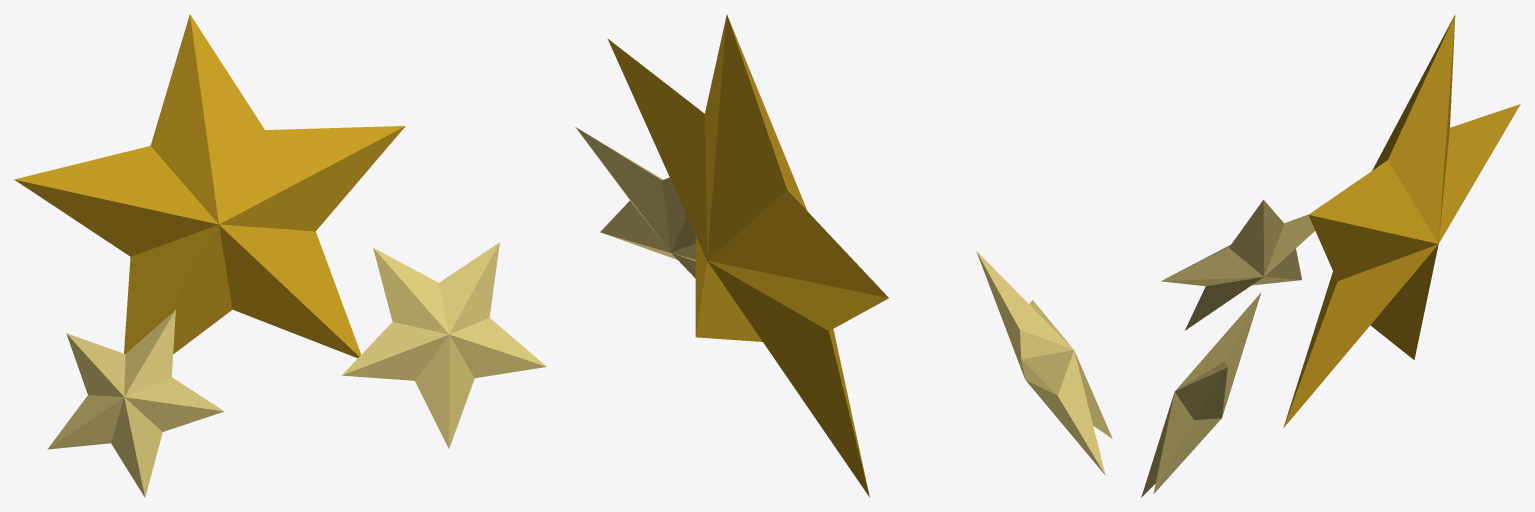
File: p_pile_shards.glb
The picture shows the model from 3 angles, left to right: view 1: azimuth 30°, elevation 25°; view 2: azimuth 150°, elevation 25°; view 3: azimuth 270°, elevation 25°; orthographic projection. The views are drawn at different scales.
Visible parts, largest first — view 1: body; view 2: body; view 3: body.
Boxes of the visible parts, bbox=[...] form: body: bbox=[14, 14, 546, 497]; body: bbox=[575, 14, 1112, 497]; body: bbox=[1141, 14, 1520, 497].
Size of the model in its own units: 1.59 by 1.28 by 1.05.
